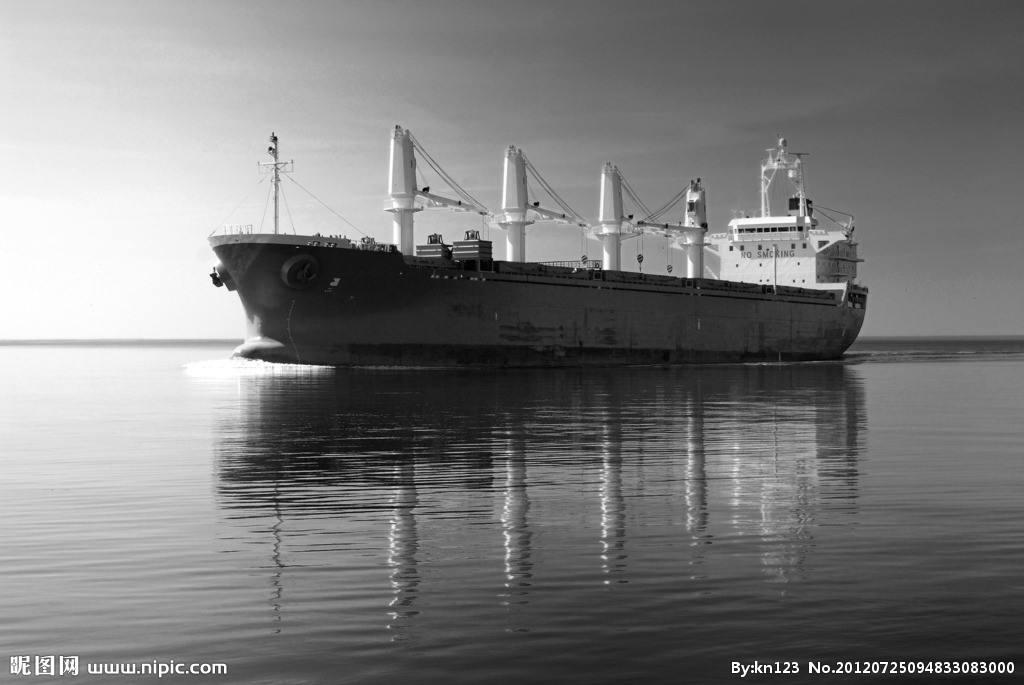Cargoship: (192, 98, 867, 373)
